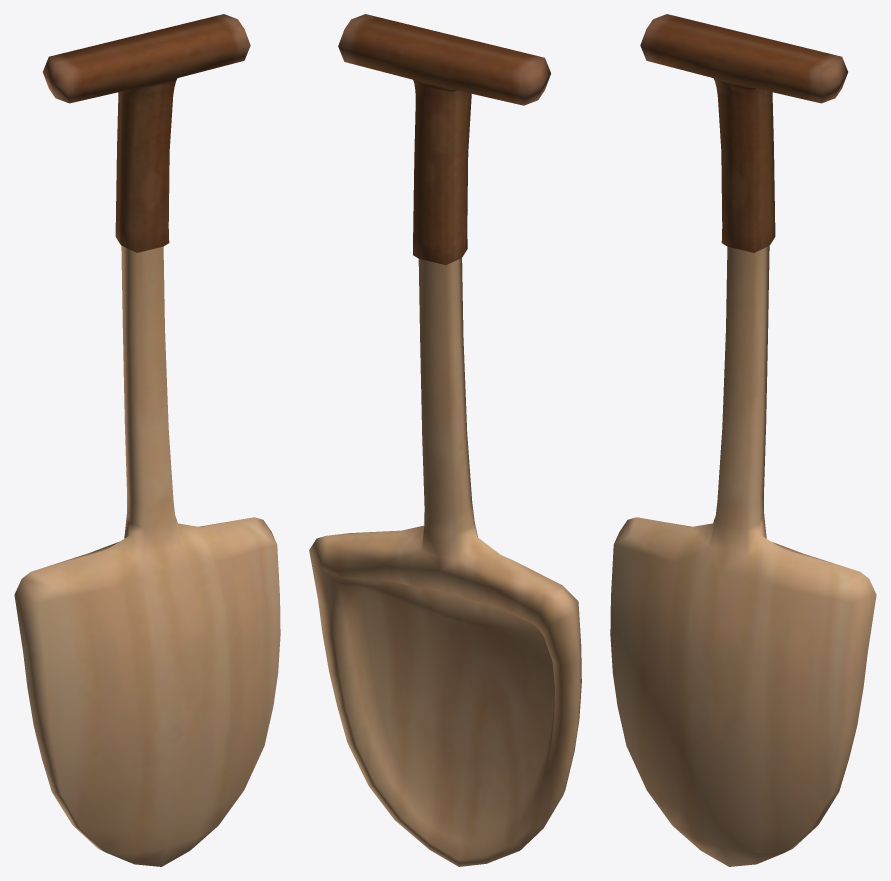
File: ToolScoopWood.glb
3 renders of one model, left to right at view 1: azimuth 30°, elevation 25°; view 2: azimuth 150°, elevation 25°; view 3: azimuth 330°, elevation 25°, orthographic. The views are drawn at different scales.
Parts seen in each view (by area): view 1: Body__mTool; view 2: Body__mTool; view 3: Body__mTool.
Part boxes in pixels (x1,y1,x2,y2): Body__mTool: (14, 14, 280, 866); Body__mTool: (309, 14, 581, 866); Body__mTool: (610, 14, 876, 866).
Bounding box in the file's own units: 4.04 × 12.23 × 1.38.
1 material, 1 textured.
